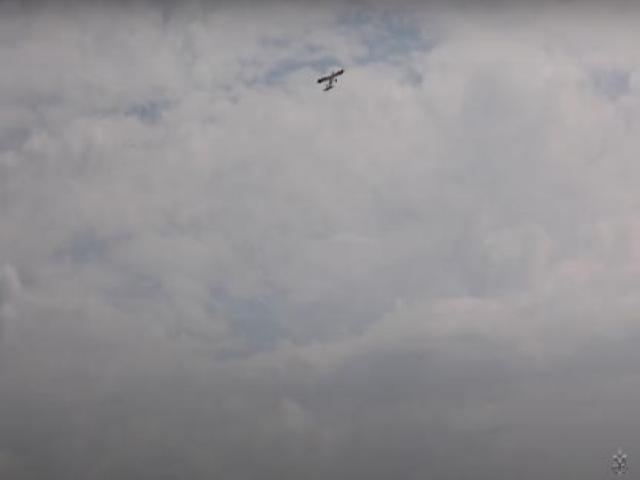uav: (316, 61, 344, 98)
